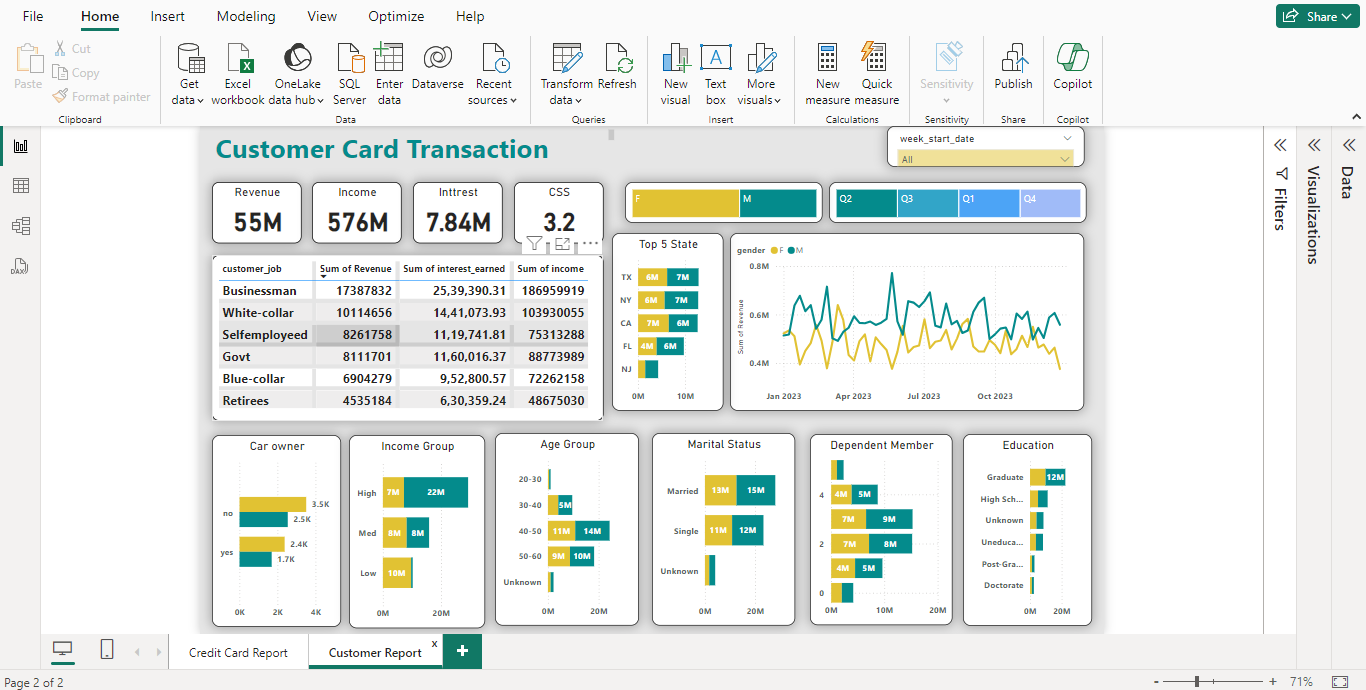

Layout of this report page (visuals, bound fields, positions):
{"tool":"powerbi","page":{"name":"Customer Report","canvas":[1280,720],"ordinal":1},"visuals":[{"type":"textbox","box":[16.7,0,575,66.7],"z":0},{"type":"card","title":"Revenue","fields":{"Values":["Sum(public cc_detail.Revenue)"]},"box":[16.7,80,126.7,86.7],"z":3},{"type":"card","title":"Income","fields":{"Values":["Sum(public cust_detail.income)"]},"box":[158.3,80,126.7,86.7],"z":4},{"type":"card","title":"Inttrest","fields":{"Values":["Sum(public cc_detail.interest_earned)"]},"box":[302.2,80,126.7,86.7],"z":5},{"type":"card","title":"CSS","fields":{"Values":["Avg(public cust_detail.cust_satisfaction_score)"]},"box":[445,80,126.7,86.7],"z":6},{"type":"slicer","fields":{"Values":["public cc_detail.week_start_date"]},"box":[973.3,0,280,58.3],"z":7},{"type":"treemap","fields":{"Group":["public cc_detail.qtr"],"Values":["CountNonNull(public cc_detail.client_num)"]},"box":[891.7,80,365,58.3],"z":8},{"type":"treemap","fields":{"Values":["CountNonNull(public cc_detail.client_num)"],"Group":["public cust_detail.gender"]},"box":[601.7,80,280,58.3],"z":9},{"type":"lineChart","fields":{"Y":["Sum(public cc_detail.Revenue)"],"Series":["public cust_detail.gender"],"Category":["public cc_detail.week_start_date.Variation.Date Hierarchy.Year","public cc_detail.week_start_date.Variation.Date Hierarchy.Month","public cc_detail.week_start_date.Variation.Date Hierarchy.Day"]},"box":[751.7,151.7,501.7,251.7],"z":10},{"type":"clusteredBarChart","title":" Car owner","fields":{"Category":["public cust_detail.car_owner"],"Y":["CountNonNull(public cust_detail.client_num)"],"Series":["public cust_detail.gender"]},"box":[17,438,183,272],"z":11},{"type":"barChart","title":"Income Group ","fields":{"Y":["Sum(public cc_detail.Revenue)"],"Category":["public cust_detail.IncomeGroup"],"Series":["public cust_detail.gender"]},"box":[211,438,193,274],"z":12},{"type":"barChart","title":" Age Group ","fields":{"Y":["Sum(public cc_detail.Revenue)"],"Category":["public cust_detail.AgeGroup"],"Series":["public cust_detail.gender"]},"box":[418,435,204,273],"z":13},{"type":"barChart","title":" Marital Status","fields":{"Y":["Sum(public cc_detail.Revenue)"],"Category":["public cust_detail.marital_status"],"Series":["public cust_detail.gender"]},"box":[640,435,203,273],"z":14},{"type":"barChart","title":"Education ","fields":{"Y":["Sum(public cc_detail.Revenue)"],"Category":["public cust_detail.education_level"],"Series":["public cust_detail.gender"]},"box":[1081.7,436.7,183.3,271.7],"z":16},{"type":"barChart","title":"Top 5 State ","fields":{"Y":["Sum(public cc_detail.Revenue)"],"Category":["public cust_detail.state_cd"],"Series":["public cust_detail.gender"]},"box":[583.3,151.7,158.3,251.7],"z":17},{"type":"tableEx","fields":{"Values":["public cust_detail.customer_job","Sum(public cc_detail.Revenue)","Sum(public cc_detail.interest_earned)","Sum(public cust_detail.income)"]},"box":[16.7,183.3,555,235],"z":18},{"type":"barChart","title":"Dependent Member ","fields":{"Y":["Sum(public cc_detail.Revenue)"],"Category":["public cust_detail.dependent_count"],"Series":["public cust_detail.gender"]},"box":[865,437,202,271],"z":19}]}

Visuals, with their boxes on the page's 1280x720 design canvas (x1, y1, x2, y2). These are canvas units, not pixel positions in the 1366x690 screenshot, which may show the page scaled, cropped or inside an application window:
textbox: l=17, t=0, r=592, b=67
"Revenue" card: l=17, t=80, r=143, b=167
"Income" card: l=158, t=80, r=285, b=167
"Inttrest" card: l=302, t=80, r=429, b=167
"CSS" card: l=445, t=80, r=572, b=167
slicer - public cc_detail.week_start_date: l=973, t=0, r=1253, b=58
treemap - public cc_detail.qtr x CountNonNull(public cc_detail.client_num): l=892, t=80, r=1257, b=138
treemap - CountNonNull(public cc_detail.client_num) x public cust_detail.gender: l=602, t=80, r=882, b=138
lineChart - Sum(public cc_detail.Revenue) x public cust_detail.gender: l=752, t=152, r=1253, b=403
" Car owner" clusteredBarChart: l=17, t=438, r=200, b=710
"Income Group " barChart: l=211, t=438, r=404, b=712
" Age Group " barChart: l=418, t=435, r=622, b=708
" Marital Status" barChart: l=640, t=435, r=843, b=708
"Education " barChart: l=1082, t=437, r=1265, b=708
"Top 5 State " barChart: l=583, t=152, r=742, b=403
tableEx - public cust_detail.customer_job x Sum(public cc_detail.Revenue): l=17, t=183, r=572, b=418
"Dependent Member " barChart: l=865, t=437, r=1067, b=708
